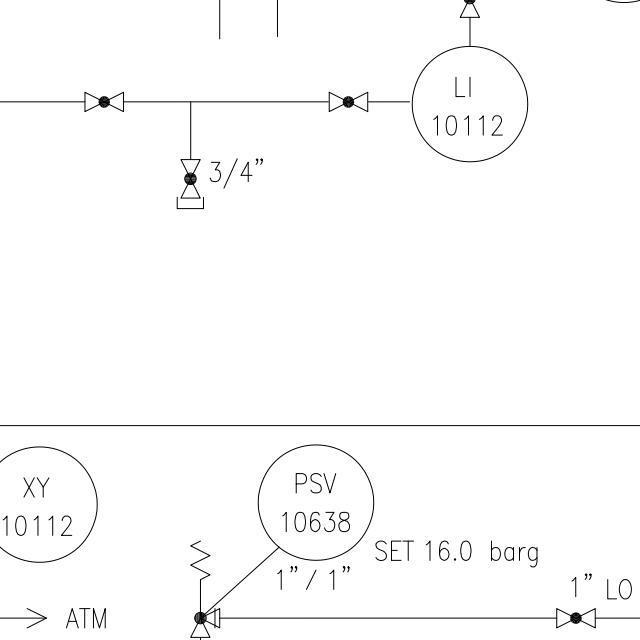BV2: (322, 88, 374, 117), (550, 606, 602, 632), (81, 88, 129, 115), (181, 157, 202, 204)
EC: (173, 124, 211, 215)
RPV: (185, 532, 228, 640)
